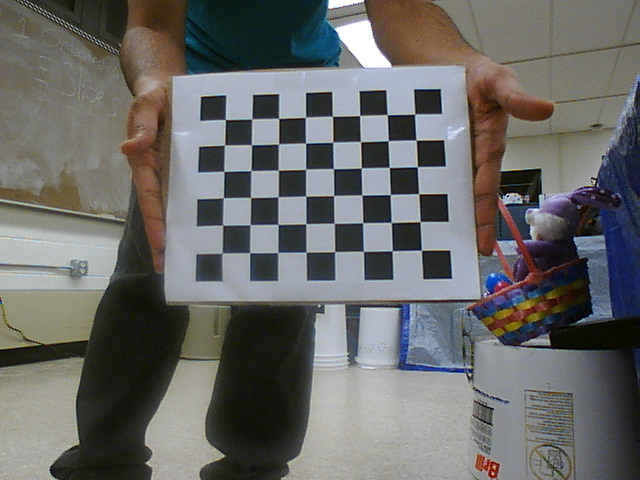bunny: (481, 189, 609, 337)
